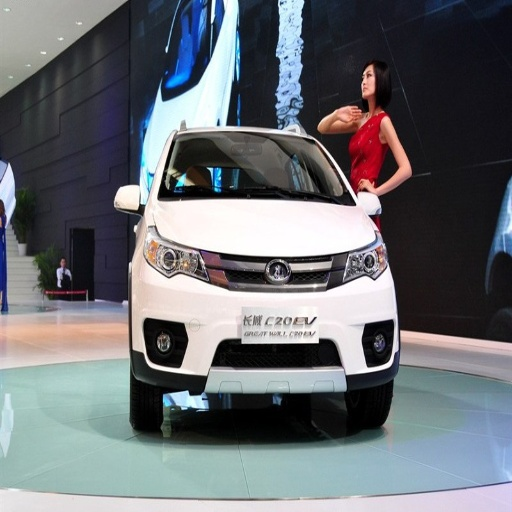front_bumper: (130, 249, 397, 394)
front_right_light: (144, 231, 209, 281)
hood: (153, 201, 377, 254)
